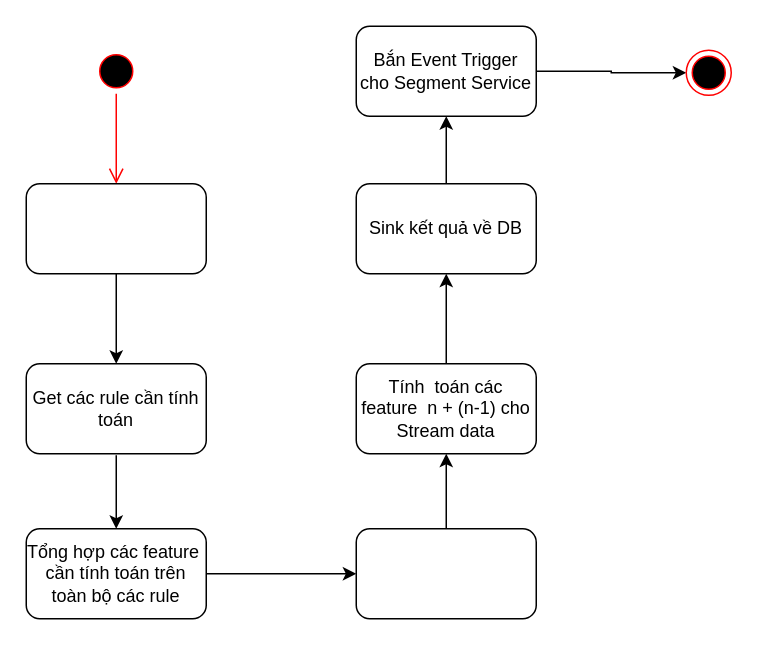
Some shapes in this 758 by 645 pixel diagram are drawn without their labels. The box of each missing label's shape, as (x1, y1, x2, y2) in pixels:
Kết hợp dữ liệu từ Stream n-1 data.: (355, 527, 536, 619)
WIndow Trigger: (25, 182, 206, 274)
